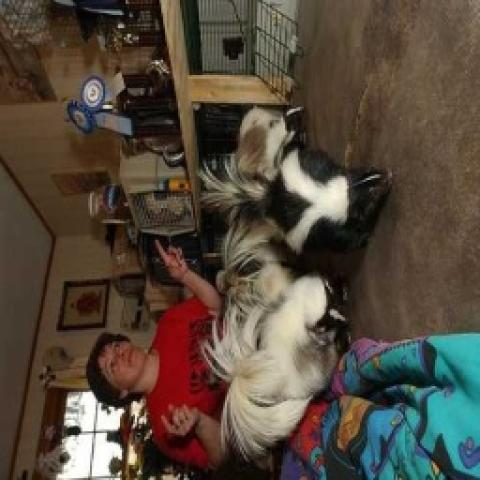small_animal: (205, 276, 346, 451), (262, 145, 392, 251)
